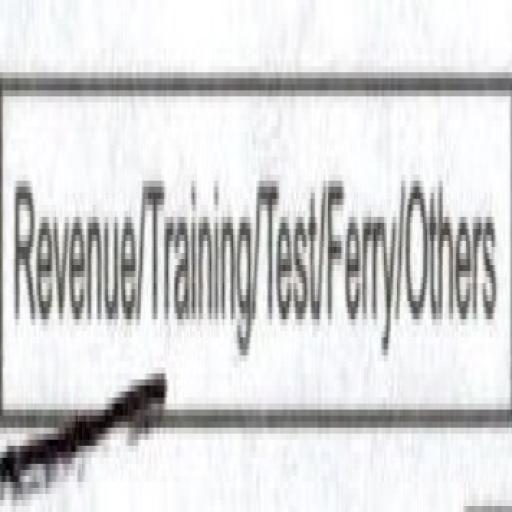check: (3, 30, 140, 512)
